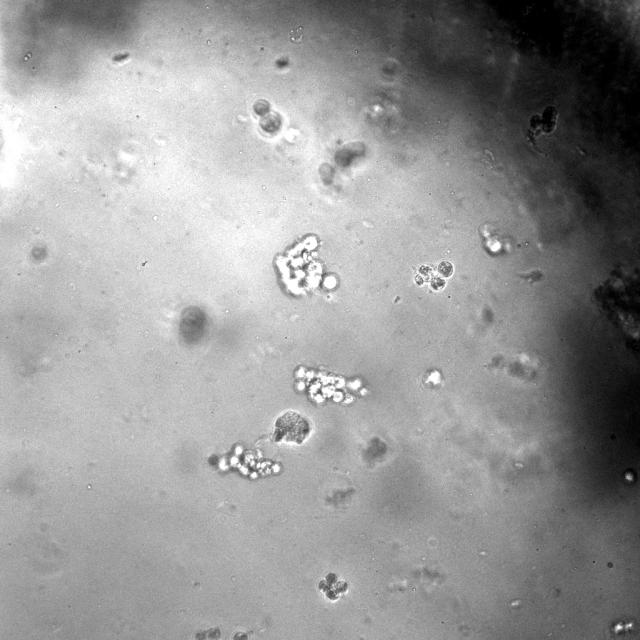organoid: (273, 233, 339, 296), (593, 265, 639, 354), (293, 364, 370, 405), (209, 443, 282, 479), (271, 410, 311, 444), (414, 259, 454, 292), (415, 259, 454, 292), (479, 224, 514, 257), (528, 105, 557, 143), (179, 306, 207, 343), (253, 98, 281, 133), (318, 572, 348, 602), (334, 141, 366, 167), (420, 368, 444, 388), (318, 162, 334, 184), (195, 627, 221, 639), (520, 269, 543, 282), (508, 358, 526, 374), (231, 629, 249, 639)
